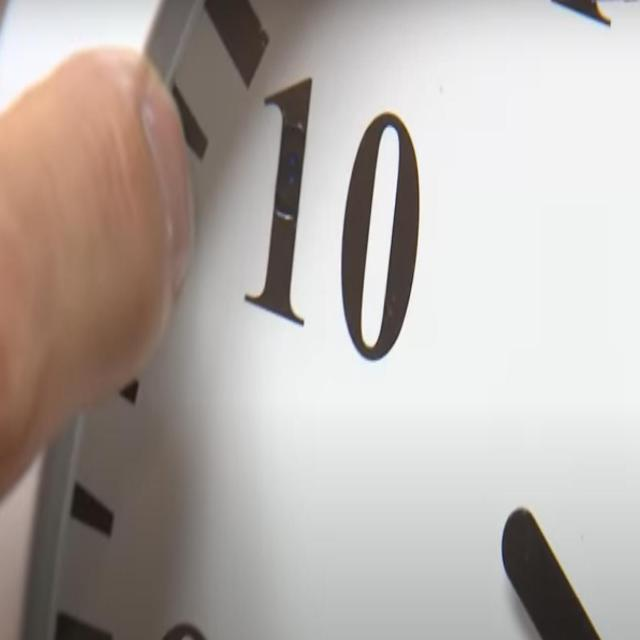hidden camera: (285, 155, 298, 188)
